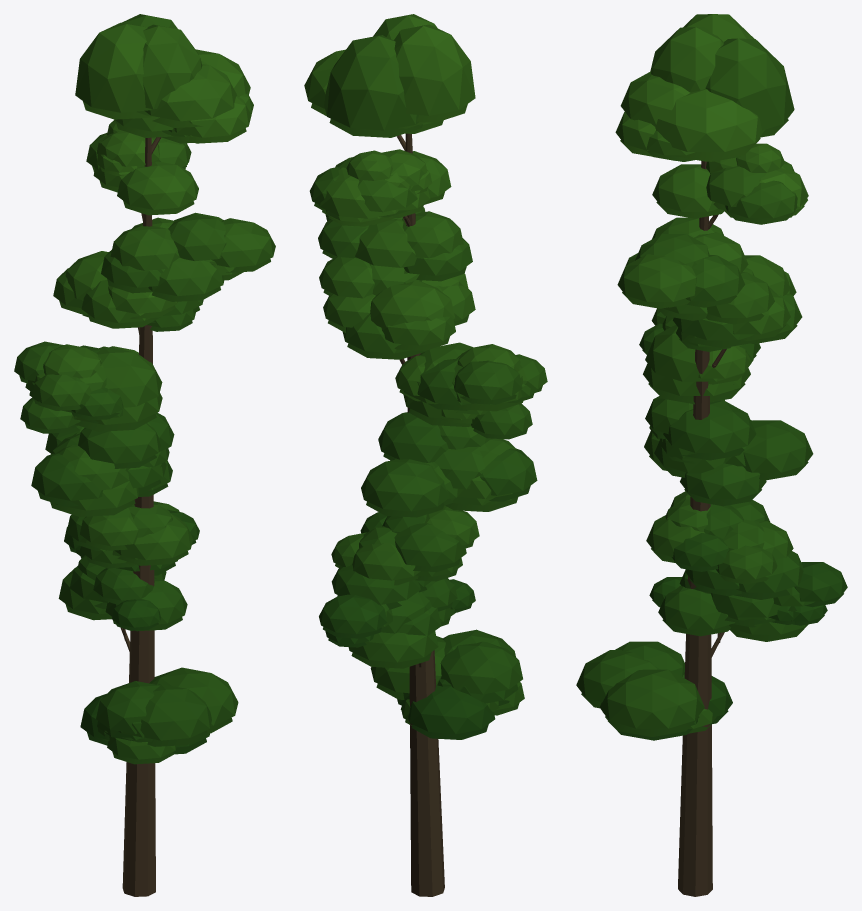
The model's file is tree_poplar_1.glb.
3 renders of one model, left to right at view 1: azimuth 30°, elevation 25°; view 2: azimuth 150°, elevation 25°; view 3: azimuth 270°, elevation 25°, orthographic.
Parts seen in each view (by area): view 1: leaf, wood; view 2: leaf, wood; view 3: leaf, wood.
Part boxes in pixels (x1=…): leaf: x1=14, y1=14, x2=275, y2=764; wood: x1=120, y1=137, x2=161, y2=896; leaf: x1=304, y1=14, x2=547, y2=739; wood: x1=397, y1=133, x2=444, y2=896; leaf: x1=576, y1=14, x2=847, y2=740; wood: x1=678, y1=161, x2=726, y2=896.
Bounding box in the file's own units: 3.83 × 14.31 × 4.03.
